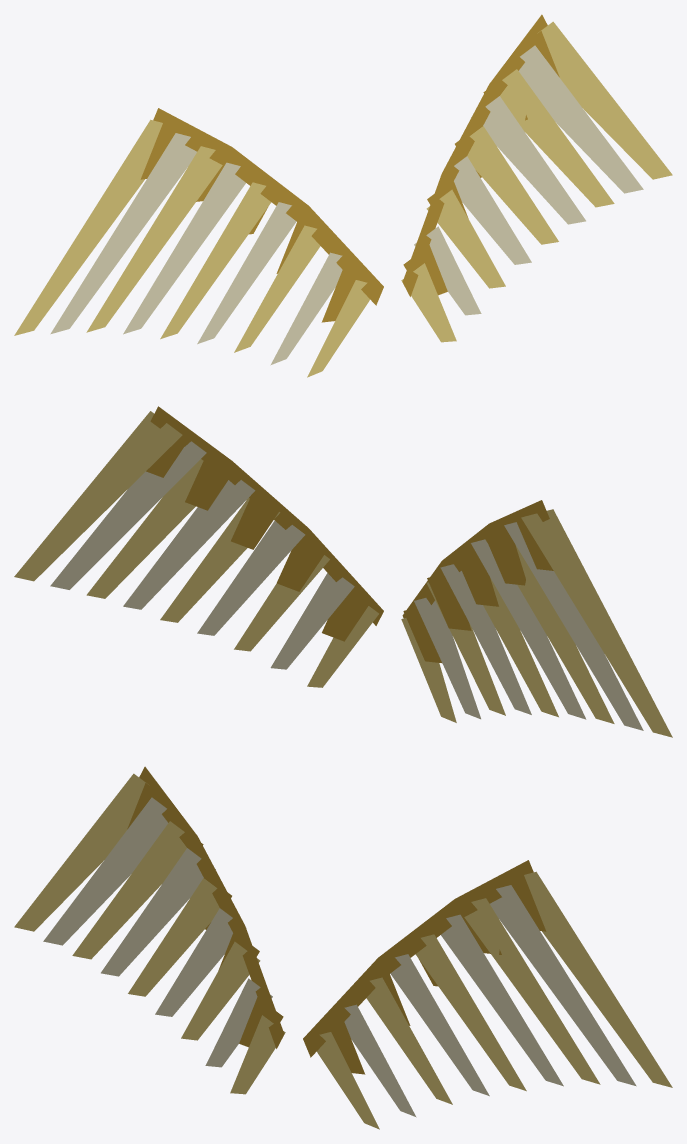
Rendered from crusade_wings_raised.glb.
3 renders of one model, top to bottom at view 1: azimuth 30°, elevation 25°; view 2: azimuth 150°, elevation 25°; view 3: azimuth 330°, elevation 25°, orthographic.
Parts seen in each view (by area): view 1: crusade_wings_raised; view 2: crusade_wings_raised; view 3: crusade_wings_raised.
Boxes of the visible parts, left/top/right/bottom form: crusade_wings_raised: left=14, top=14, right=672, bottom=377; crusade_wings_raised: left=14, top=406, right=672, bottom=737; crusade_wings_raised: left=14, top=766, right=672, bottom=1129.
Size of the model in its own units: 3.62 by 1.44 by 0.4733.
Materials: 1 (1 with a texture image).
